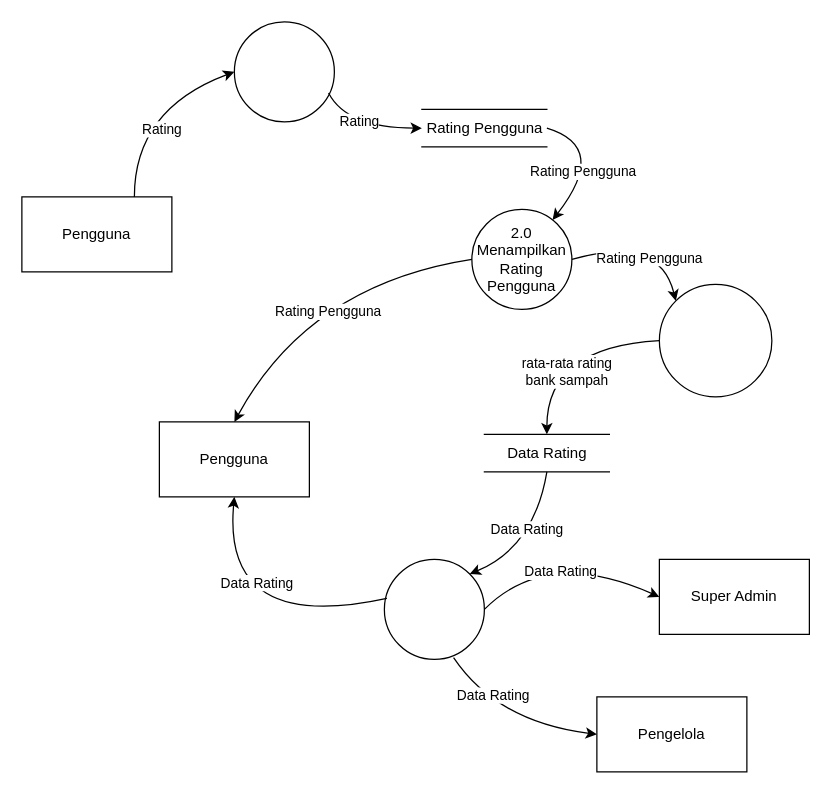
This 831x794 diagram has some shape labels left out. The centre of each missing label's shape, as x and y in pixels:
1.0 Memasukkan Rating: pixel 283 71
3.0 Menghitung rata-rata rating bank sampah: pixel 715 340
4.0 Menampilkan data rating: pixel 433 608
